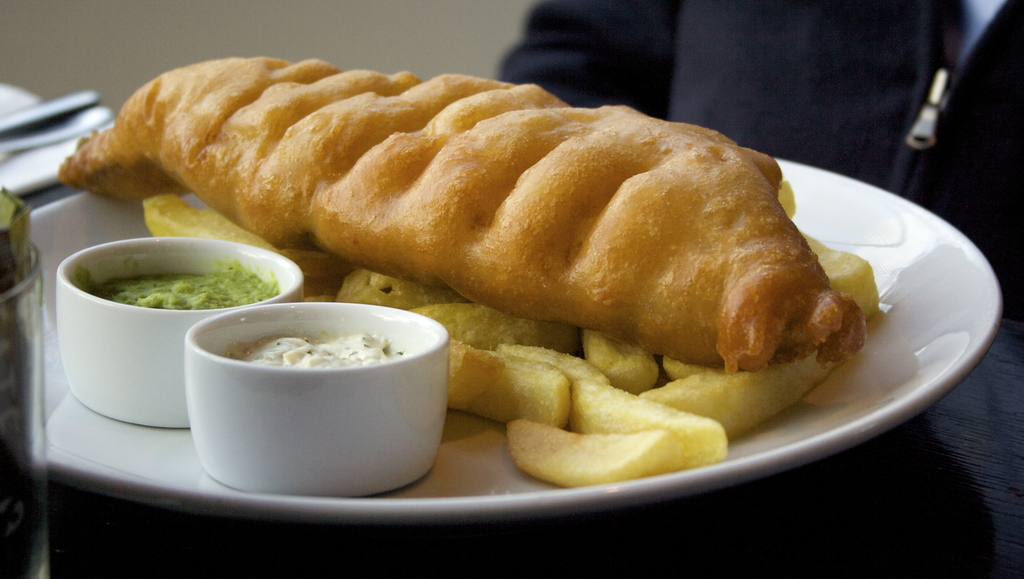French fries: (133, 179, 889, 498)
